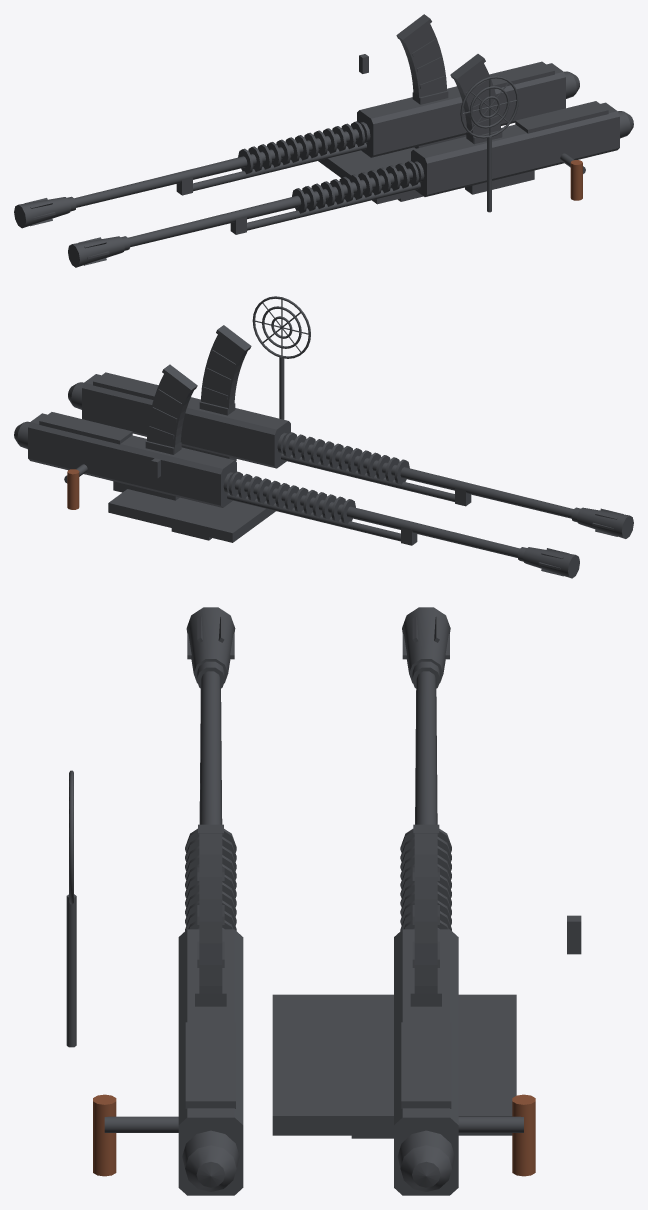
File: twin_type93.obj
The picture shows the model from 3 angles, top to bottom: view 1: azimuth 30°, elevation 25°; view 2: azimuth 150°, elevation 25°; view 3: azimuth 270°, elevation 25°; orthographic projection. The views are drawn at different scales.
Parts seen in each view (by area): view 1: barrel_0, turret_0, barrel_1; view 2: barrel_0, turret_0, barrel_1; view 3: barrel_0, turret_0, barrel_1.
Part boxes in pixels (x1,y1,x2,y2): barrel_0: (14, 14, 633, 267); turret_0: (318, 54, 518, 212); barrel_1: (570, 160, 582, 200); barrel_0: (14, 325, 633, 578); turret_0: (108, 296, 310, 542); barrel_1: (67, 469, 79, 509); barrel_0: (104, 607, 523, 1195); turret_0: (66, 770, 581, 1138); barrel_1: (93, 1094, 535, 1176).
Size of the model in its own units: 1.79 by 0.528 by 0.717.
